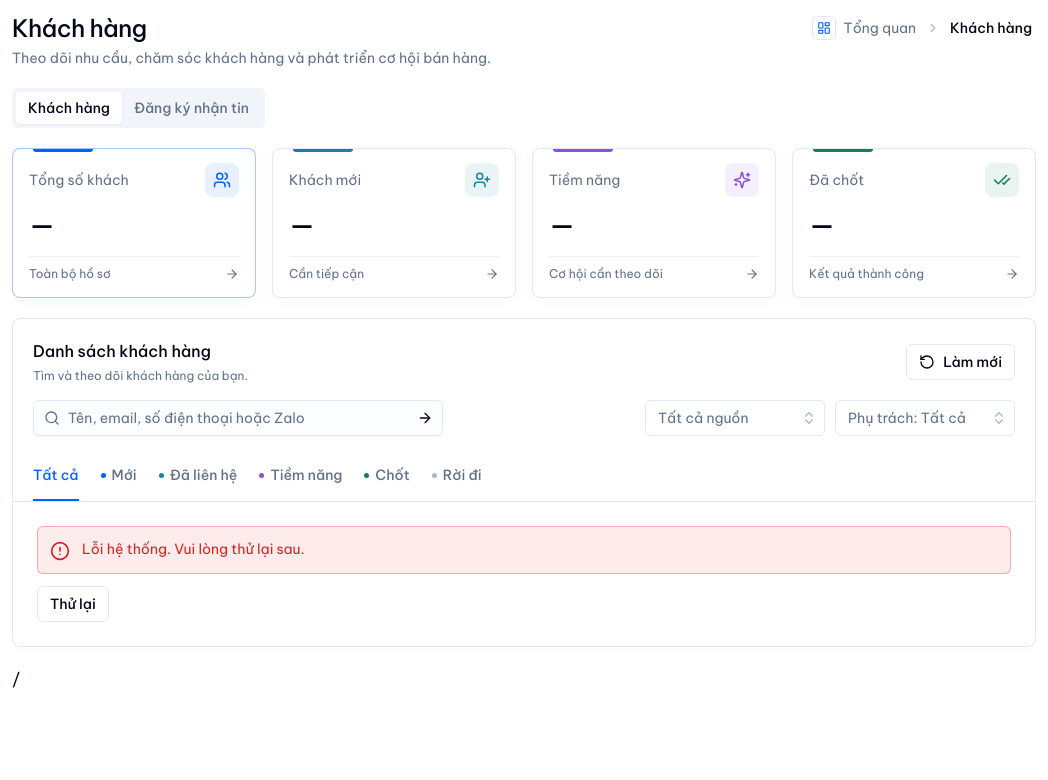
Test: CRM lead workspace › shows an error with retry without inventing zero totals
Check: the button "Tổng số khách — Toàn bộ hồ sơ" is shown, box [12,148,256,298]
Click the button "Thử lại".
click(73, 604)  # box [37,586,109,622]
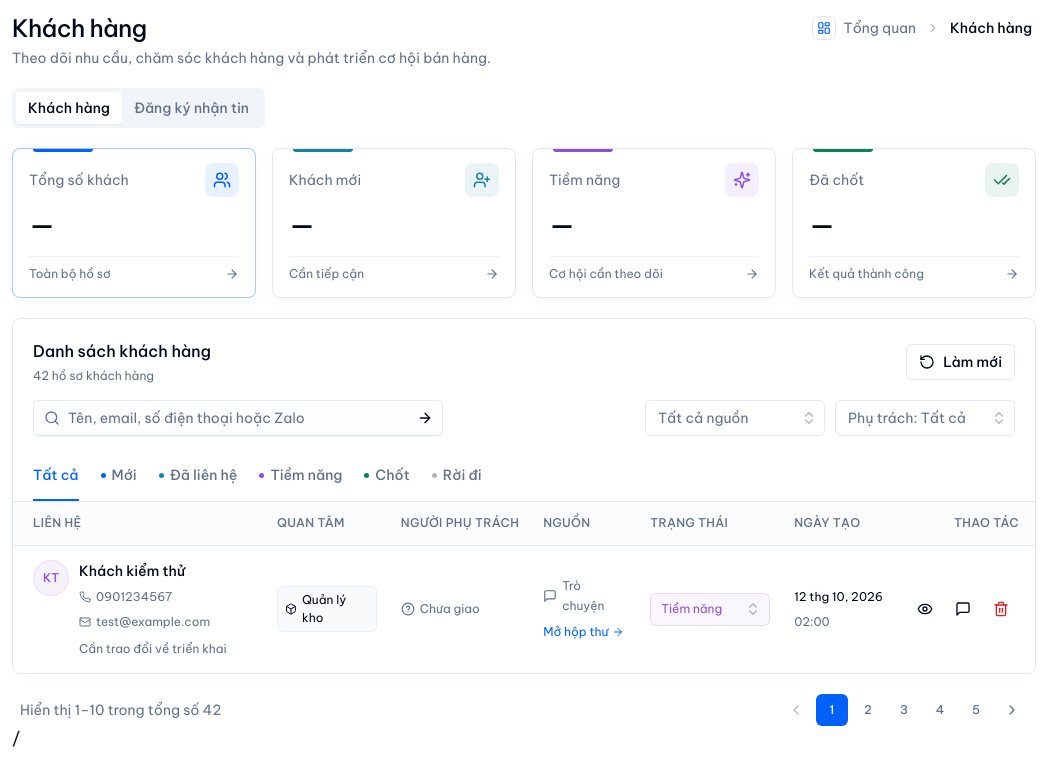
Check: the table with test id "leads-table" is shown, box [13,502,1035,672]
